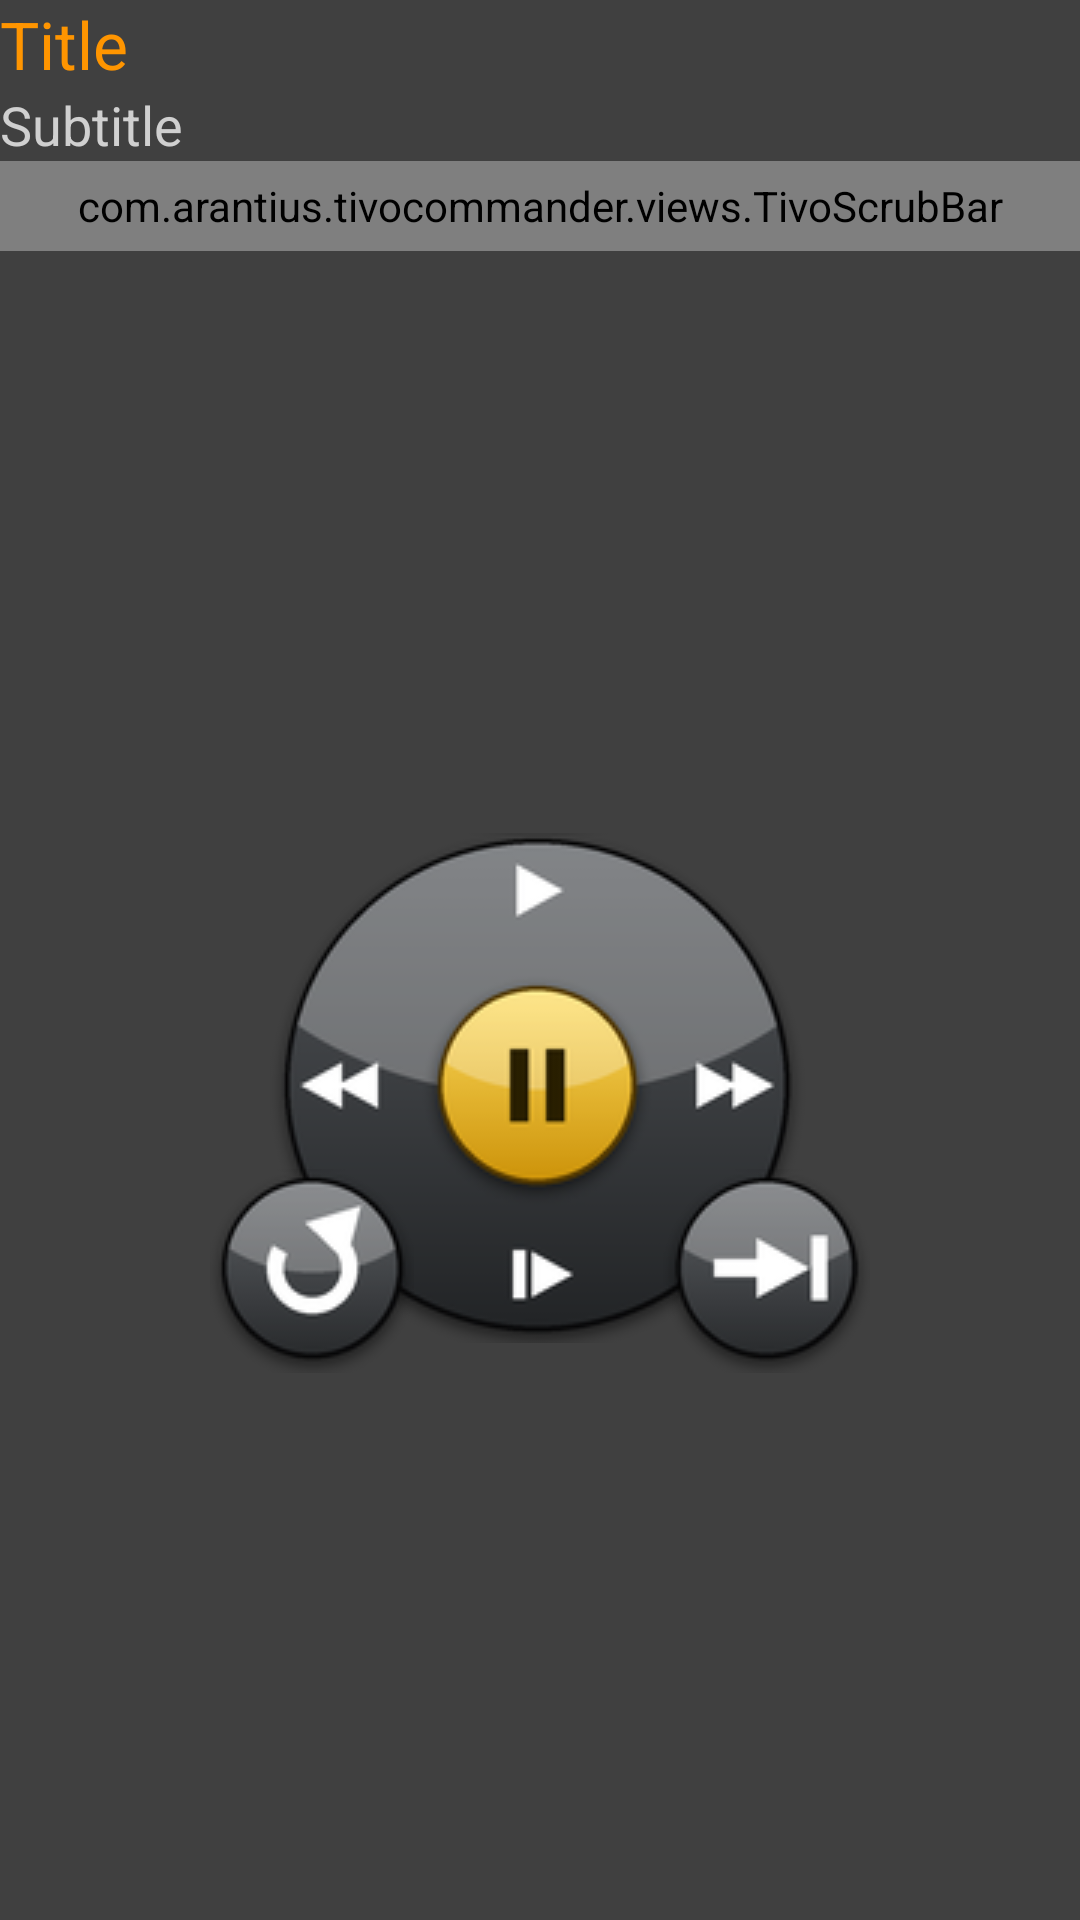

Screen size 1080x1920. Icon name, then its center in pixels as point (x, y):
Advance: point (763, 1269)
Replay: point (315, 1269)
